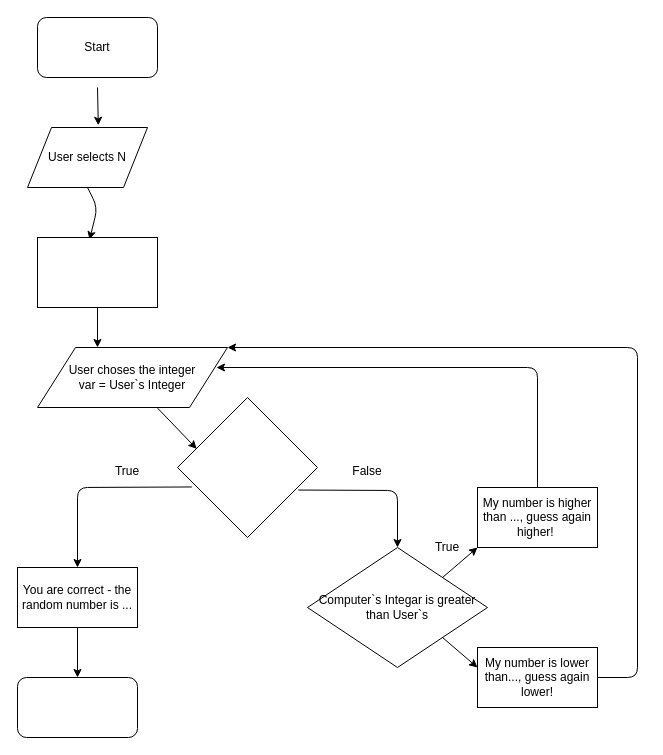
This 663x755 diagram has some shape labels left out. Each missing label, with the centre of its shape:
"End" belongs at point 77,707.
"Function, that choses an integer between 1 and N var = Computer`s Integer" belongs at point 97,272.
"Is Computer`s Integar Equal to User`s?" belongs at point 247,467.
